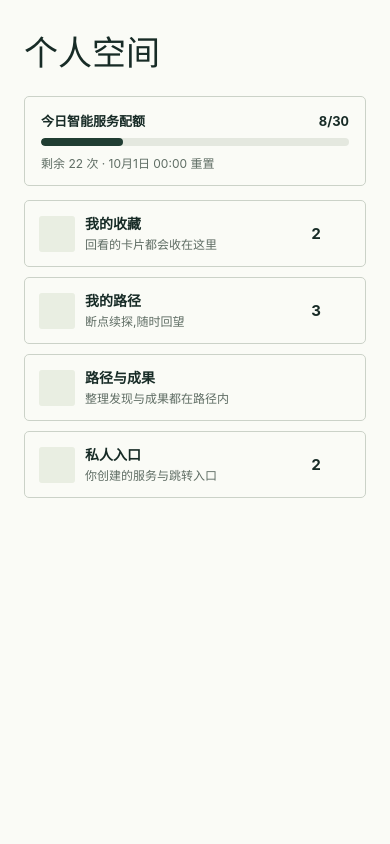
it: MeView(个人空间,FR-U02/U05) › 私人入口列表展开:名称/状态 chip(ACTIVE=可用,PENDING=审核中)
Click the button with test id "entry-toggle" at {"x": 57, "y": 465}, box [25,432,365,497]
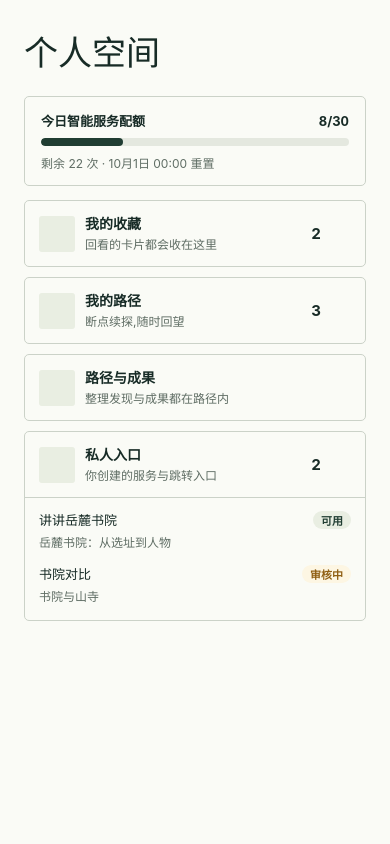
Now the elements with class "r-chip" read "可用", "审核中", in this order, box [313,511,351,529]; [302,565,351,583]
Now the text "讲讲岳麓书院" is shown, box [39,513,117,528]
Now the text "岳麓书院：从选址到人物" is shown, box [39,535,171,550]
